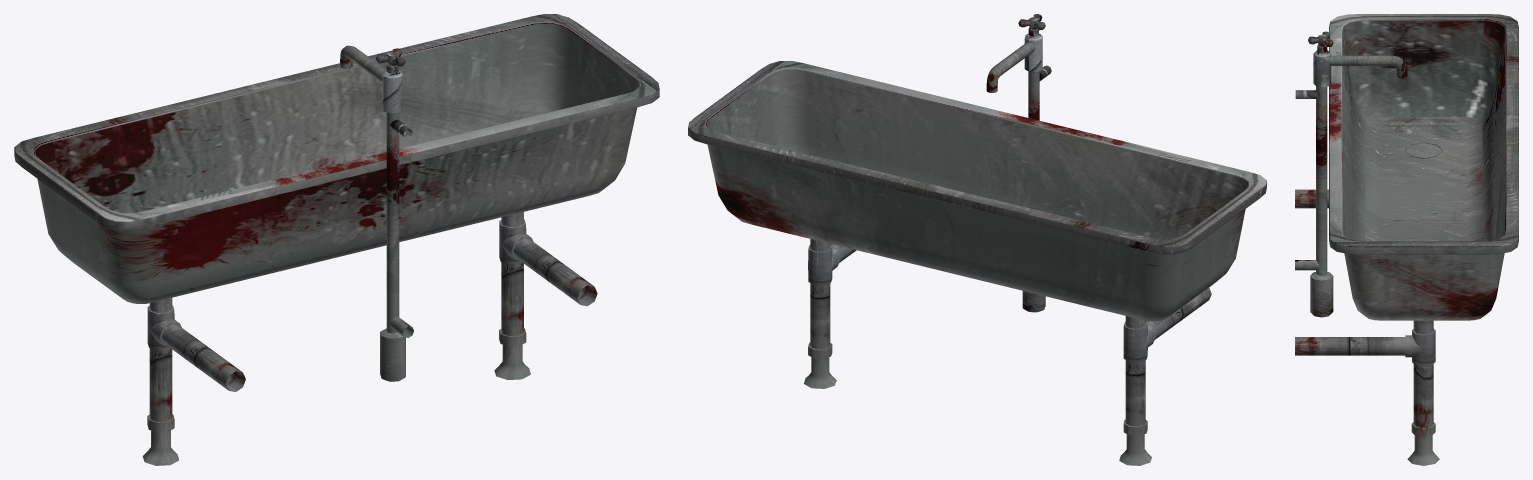
Rendered from sink2.fbx.
The picture shows the model from 3 angles, left to right: view 1: azimuth 30°, elevation 25°; view 2: azimuth 150°, elevation 25°; view 3: azimuth 270°, elevation 25°; orthographic projection. The views are drawn at different scales.
Parts seen in each view (by area): view 1: polySurface474; view 2: polySurface474; view 3: polySurface474.
Part boxes in pixels (left/top/right/bottom): polySurface474: left=14, top=14, right=659, bottom=465; polySurface474: left=688, top=14, right=1266, bottom=465; polySurface474: left=1295, top=14, right=1518, bottom=465.
Size of the model in its own units: 181 by 126 by 73.54.
